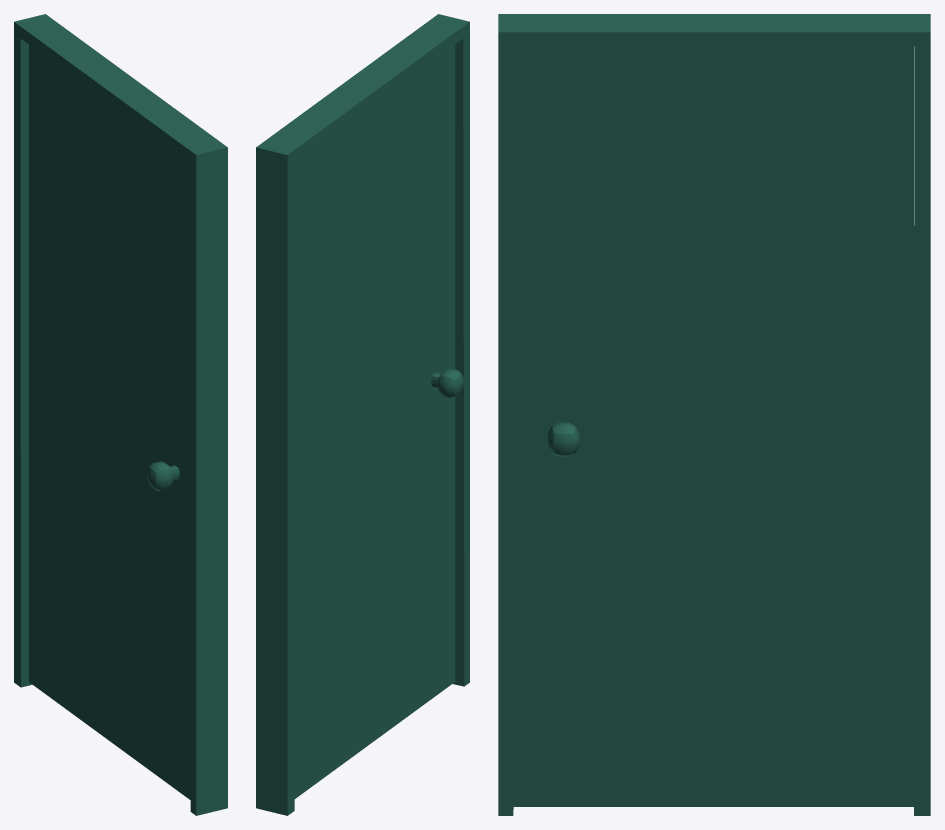
File: _oor.FBX
3 renders of one model, left to right at view 1: azimuth 30°, elevation 25°; view 2: azimuth 150°, elevation 25°; view 3: azimuth 270°, elevation 25°, orthographic. The views are drawn at different scales.
Visible parts, largest first — view 1: Door7, doorframe; view 2: Door7, doorframe; view 3: Door7, doorframe.
Boxes of the visible parts, bbox=[...] form: Door7: bbox=[29, 45, 190, 799]; doorframe: bbox=[14, 14, 227, 815]; Door7: bbox=[294, 44, 463, 798]; doorframe: bbox=[256, 14, 469, 815]; Door7: bbox=[513, 46, 914, 806]; doorframe: bbox=[498, 14, 930, 815].
Bounding box in the file's own units: 21.95 × 200 × 100.
